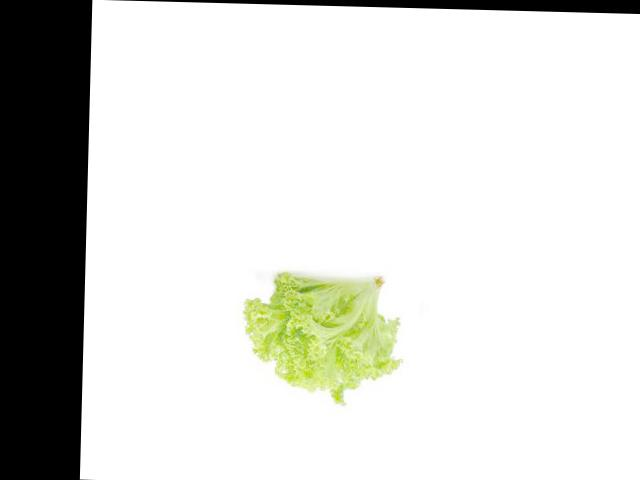lettuce: (251, 252, 402, 400)
